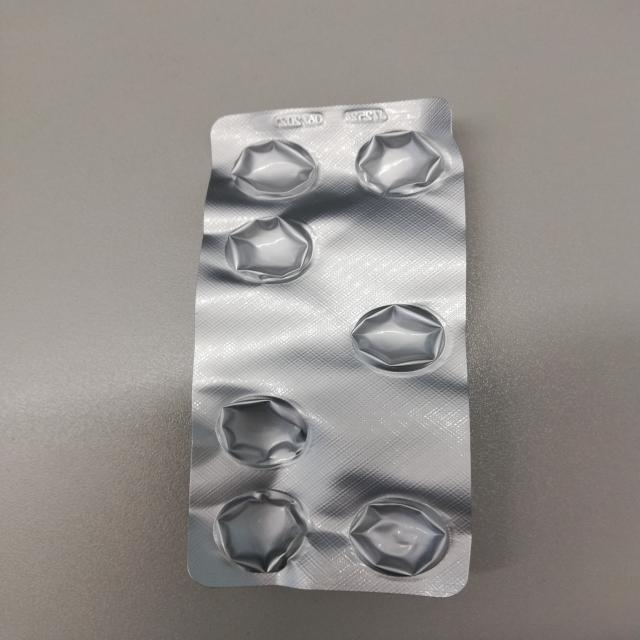Empty: (207, 490, 314, 576), (345, 494, 452, 579), (213, 392, 318, 472), (350, 299, 451, 377), (221, 212, 316, 286), (353, 132, 448, 200), (229, 138, 323, 203)
